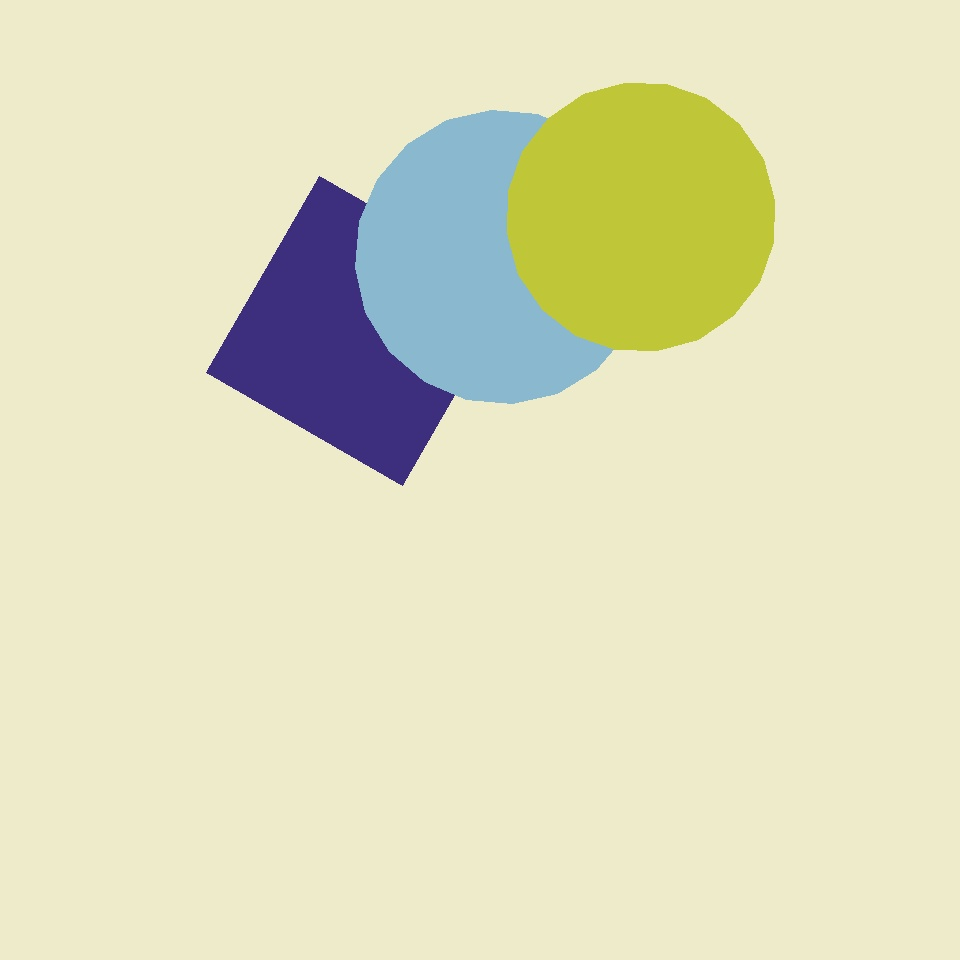circle: (395, 329, 577, 492)
square: (206, 176, 516, 486), (53, 39, 162, 149)
triangle: (356, 110, 648, 404), (508, 84, 774, 350), (111, 313, 269, 470)
